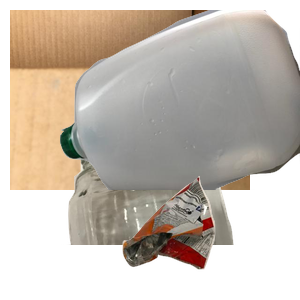cardboard: (10, 10, 250, 190)
glass: (61, 120, 287, 300)
plastic: (60, 10, 300, 190)
trash: (120, 174, 300, 300)
